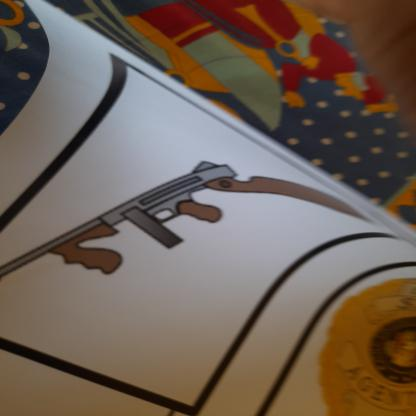Bootlegger: (2, 158, 372, 331)
